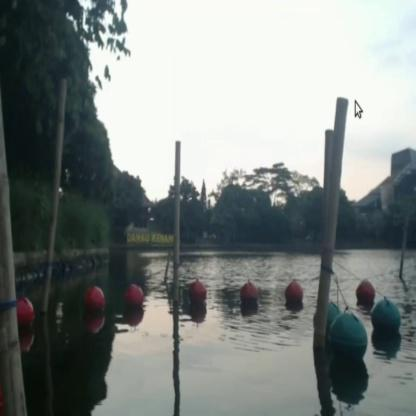green_buoy: (329, 310, 367, 370), (370, 301, 400, 352)
red_buoy: (186, 280, 208, 314), (124, 282, 142, 318), (18, 298, 34, 336), (240, 277, 258, 309), (85, 288, 104, 318), (357, 275, 375, 306), (288, 286, 304, 308)
